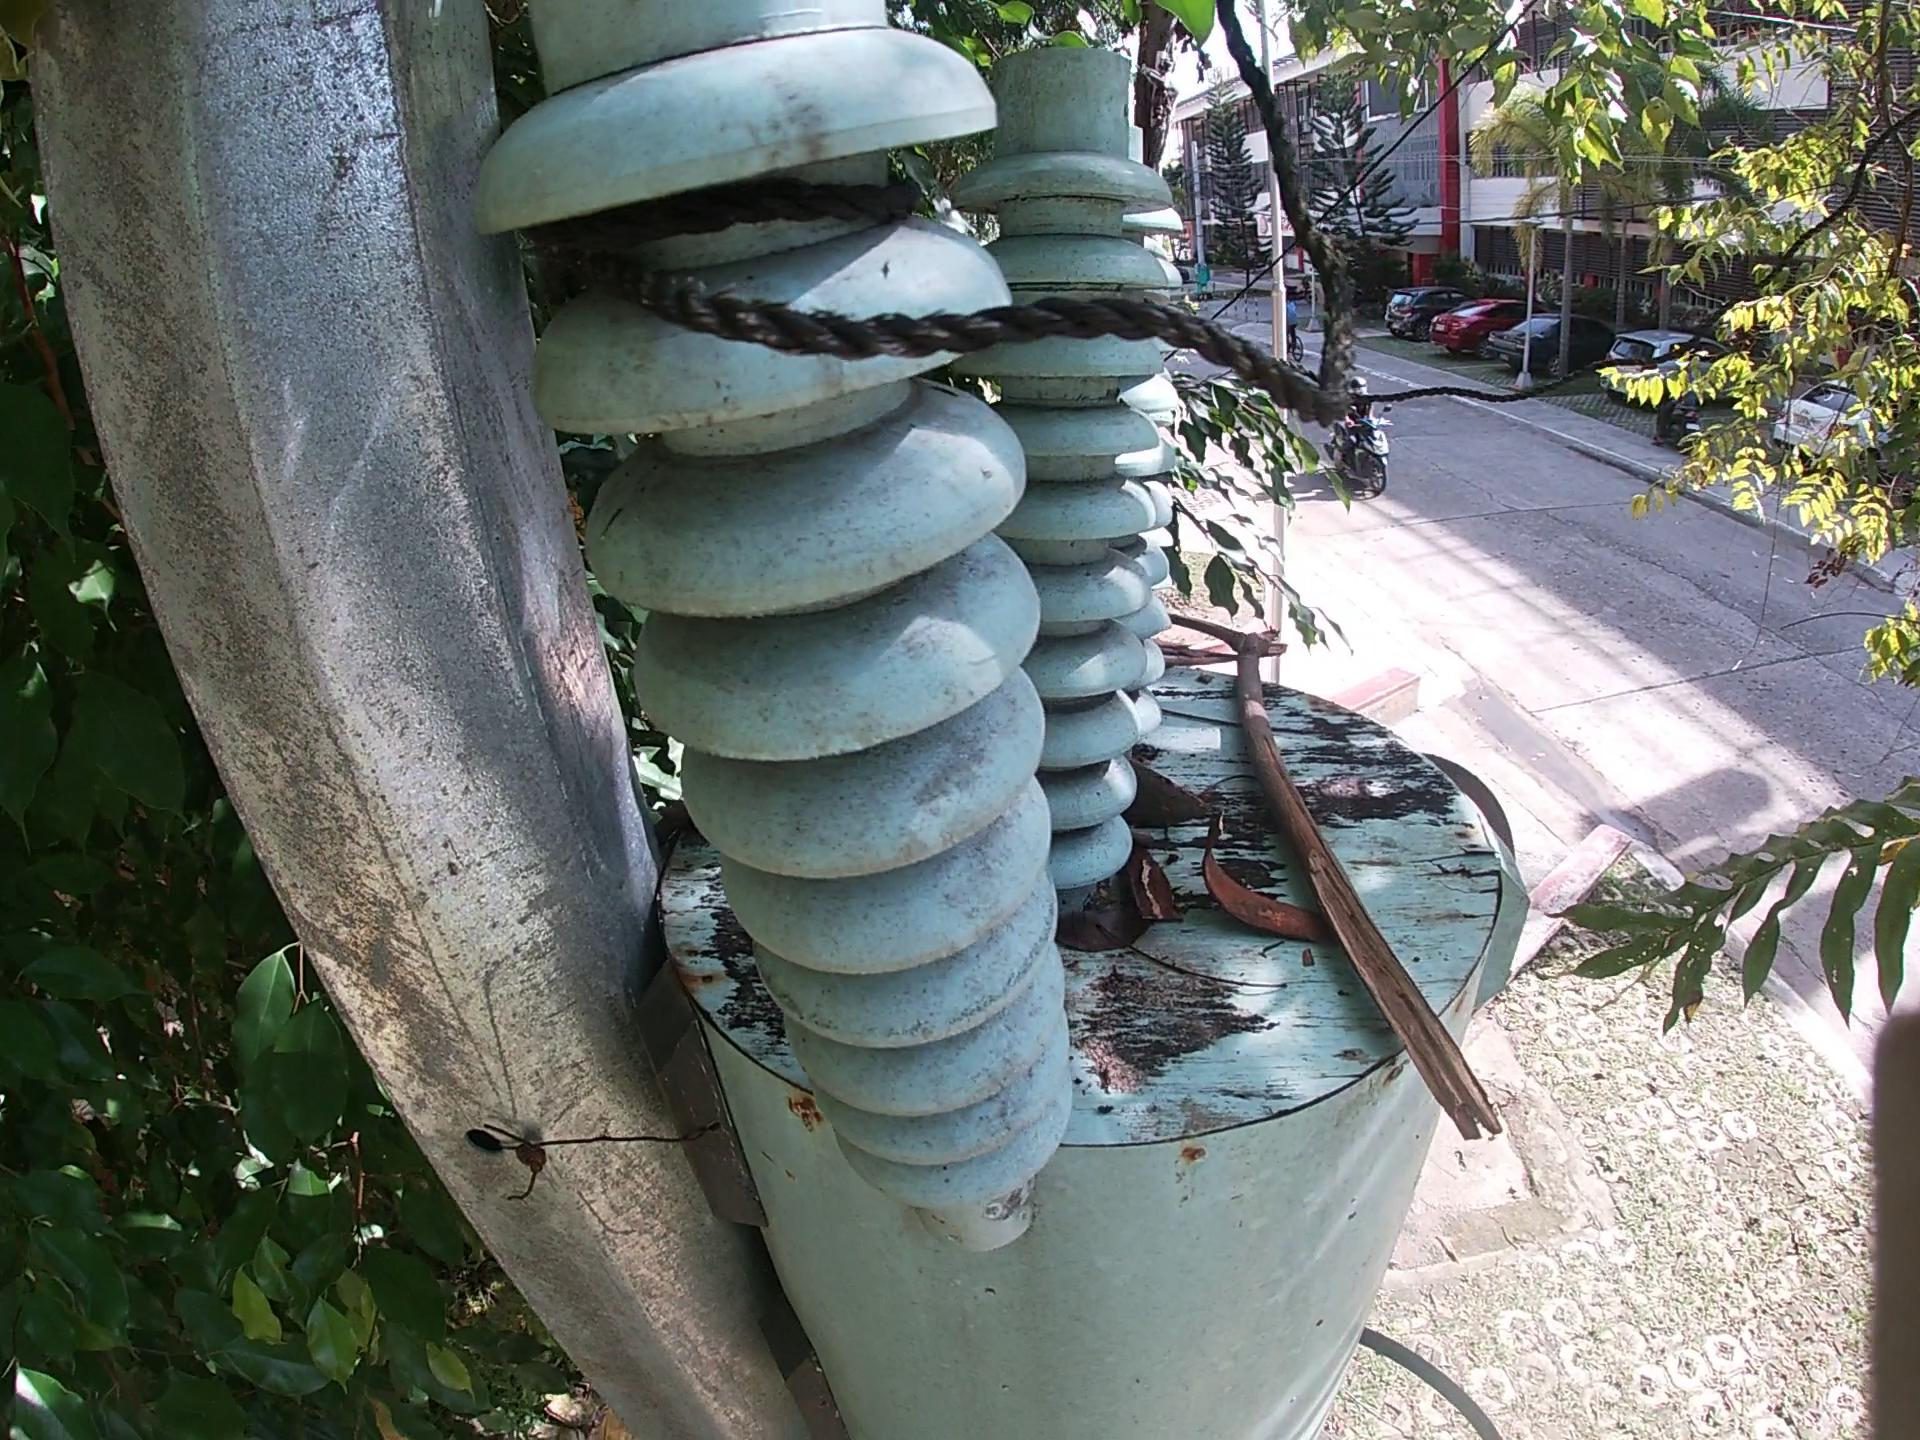leaf: (1057, 914, 1150, 951)
mahogany fruit: (1191, 814, 1324, 959), (1131, 764, 1217, 829)
tree branch: (1170, 601, 1522, 1156), (1126, 948, 1312, 1003), (1166, 696, 1352, 743), (1134, 839, 1191, 932), (1154, 640, 1234, 675)
